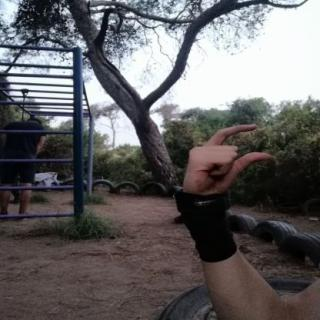DELL: (171, 118, 278, 209)
